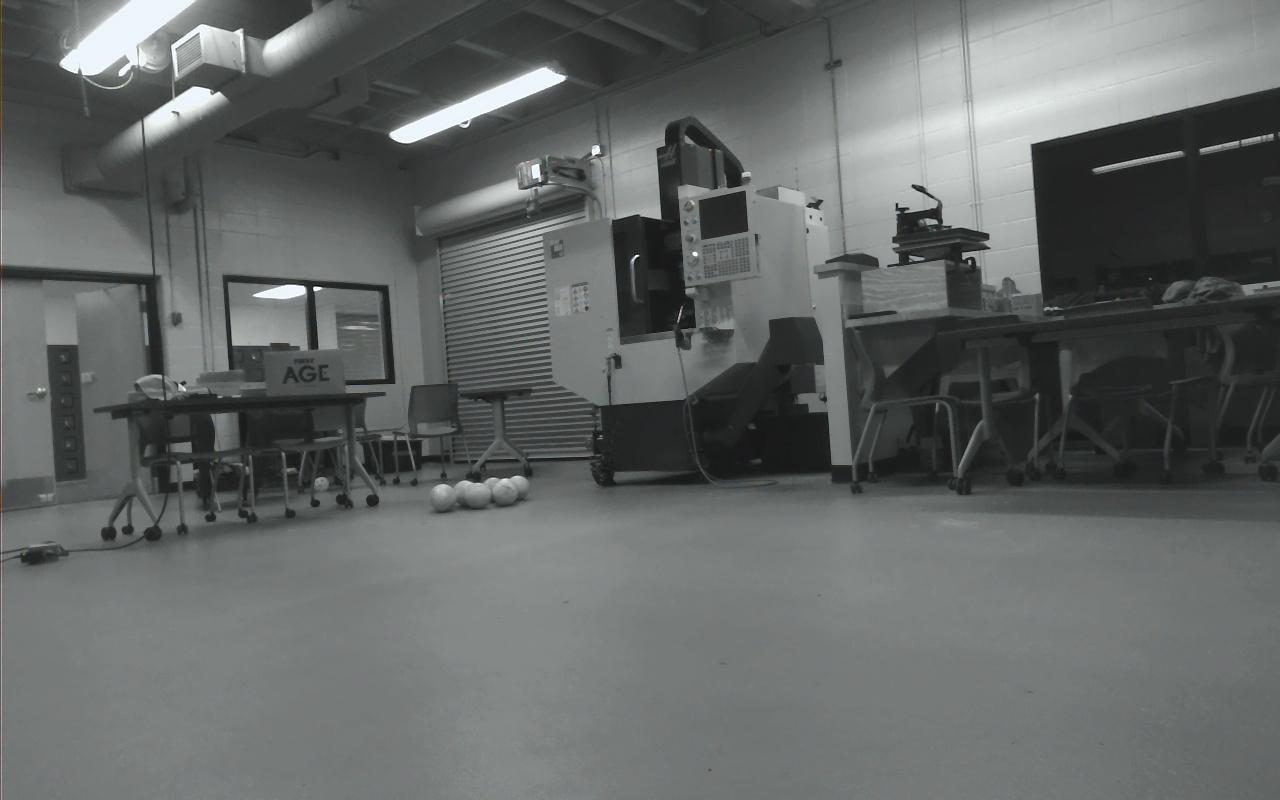Fuel: (428, 482, 458, 514), (463, 479, 492, 509), (492, 477, 518, 507), (508, 474, 531, 501), (453, 480, 475, 508), (482, 476, 503, 501)
